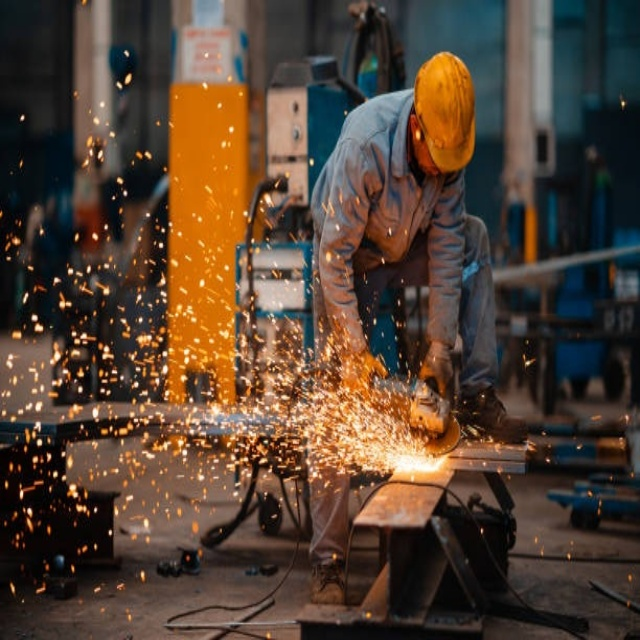Guantes: (344, 345, 388, 394), (419, 341, 454, 397)
